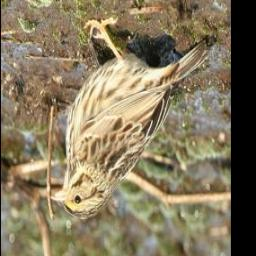Sparrow: (50, 14, 215, 222)
